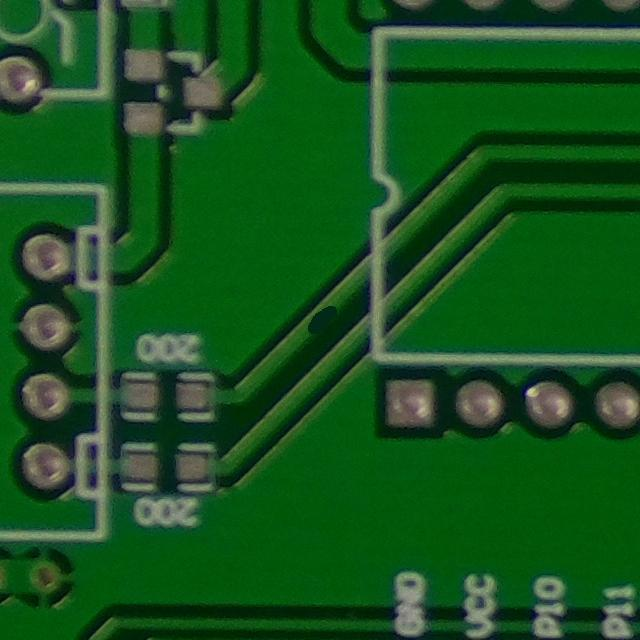mouse_bite: (291, 297, 349, 343)
